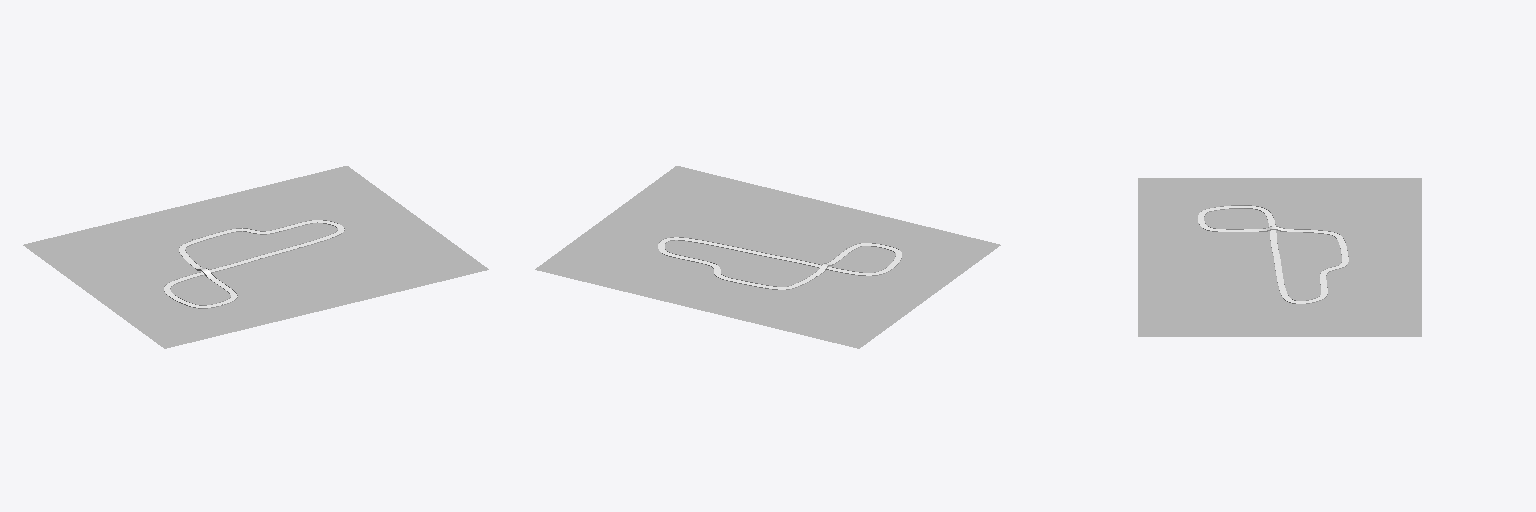
The picture shows the model from 3 angles: view 1: azimuth 30°, elevation 25°; view 2: azimuth 150°, elevation 25°; view 3: azimuth 270°, elevation 25°; orthographic projection.
Visible parts, largest first — view 1: Plane, SkyTrack05_Main; view 2: Plane, SkyTrack05_Main; view 3: Plane, SkyTrack05_Main.
Part boxes in pixels (x1,y1,x2,y2): Plane: (23,166,488,348); SkyTrack05_Main: (164,220,344,308); Plane: (535,166,1000,348); SkyTrack05_Main: (658,237,901,289); Plane: (1138,178,1421,336); SkyTrack05_Main: (1198,205,1348,303).
Bounding box in the file's own units: 796 × 10.09 × 604.